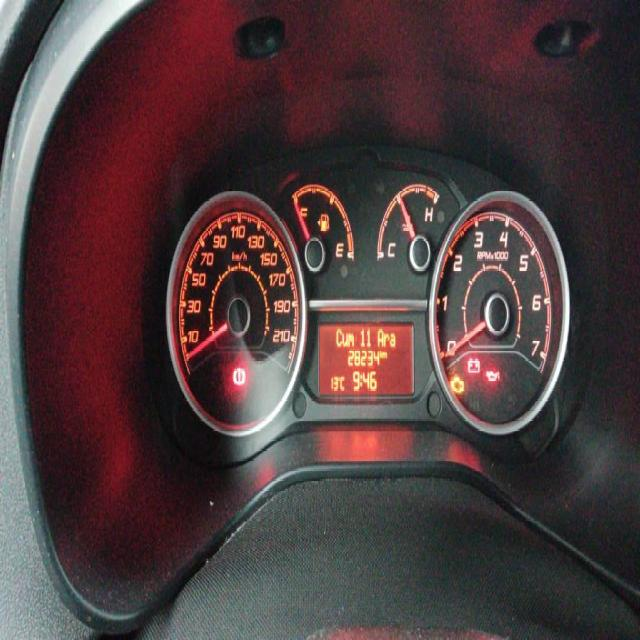odometer: (317, 320, 414, 399)
